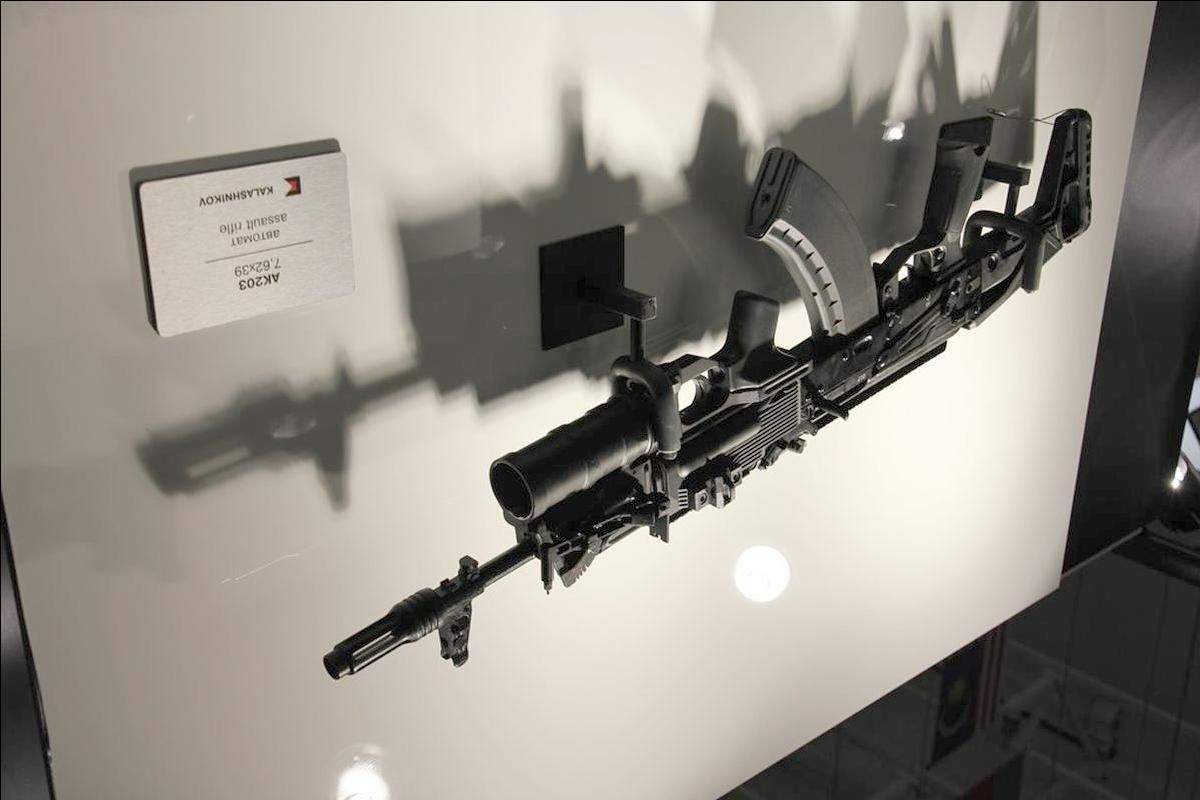gun: (320, 108, 1096, 686)
